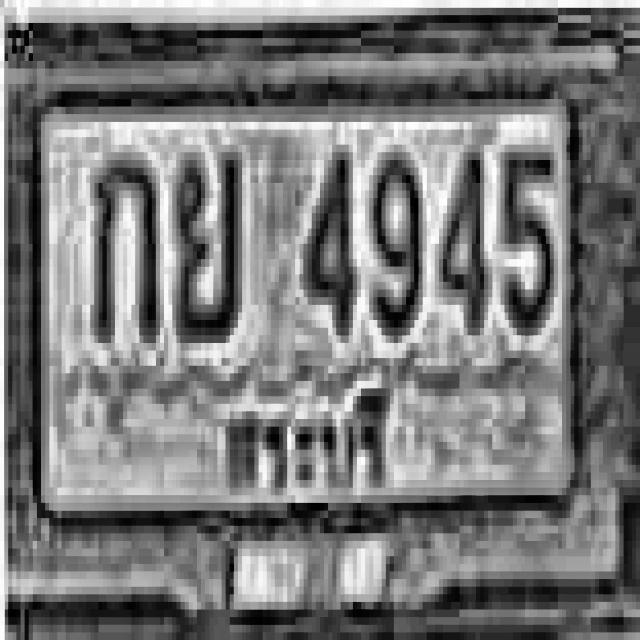license-plate: (13, 45, 617, 597)
